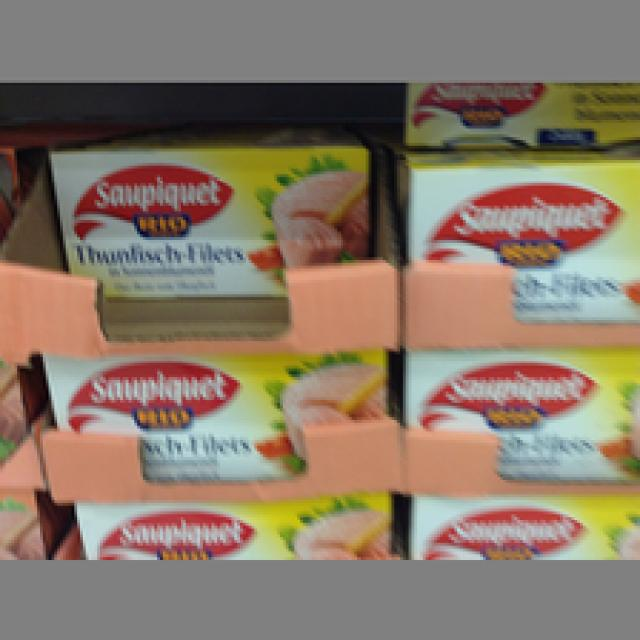groceries: (46, 134, 366, 294), (31, 349, 388, 477), (397, 146, 637, 320), (400, 349, 637, 477)
